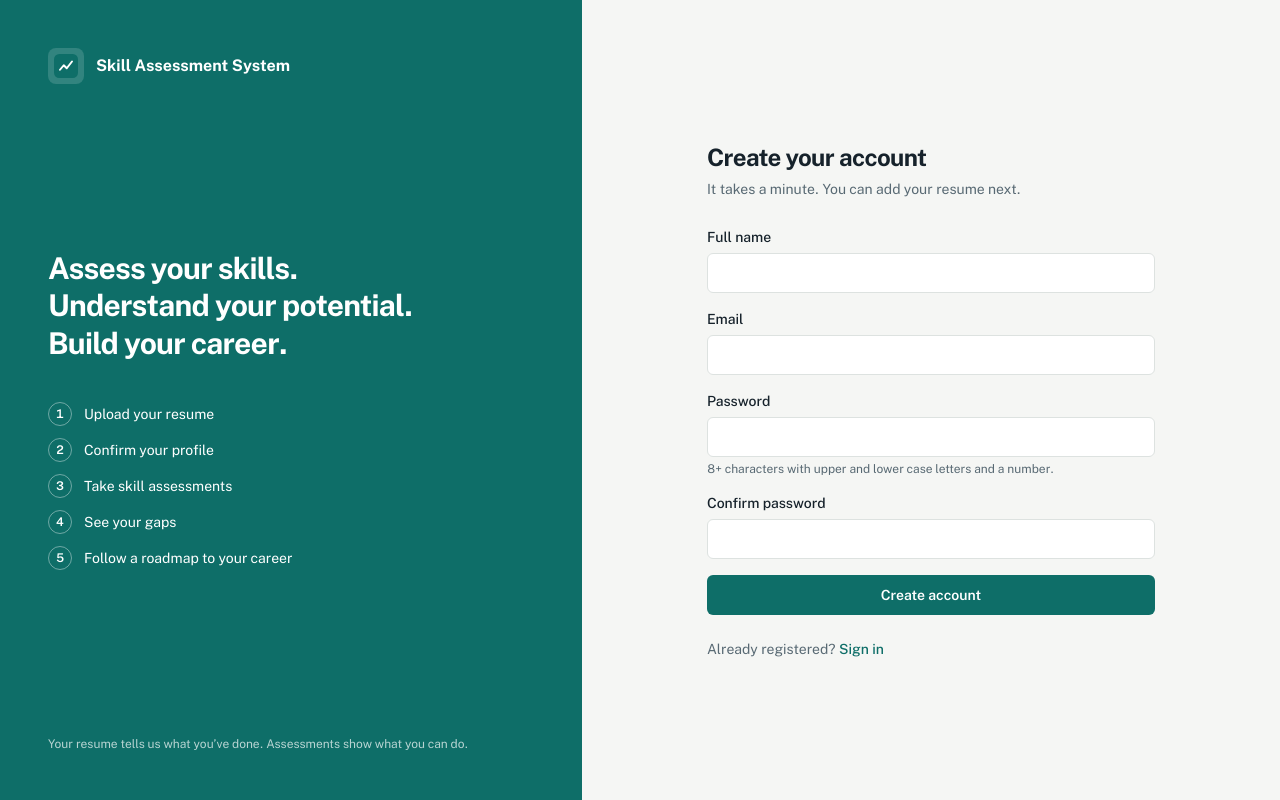
Scenario: auth forms › blocks registration when passwords differ
The width and height of the screenshot is (1280, 800).
Type "Ana Rao" into the field labelled "Full name".
click(931, 273); type("Ana Rao")  # box [707,253,1155,293]
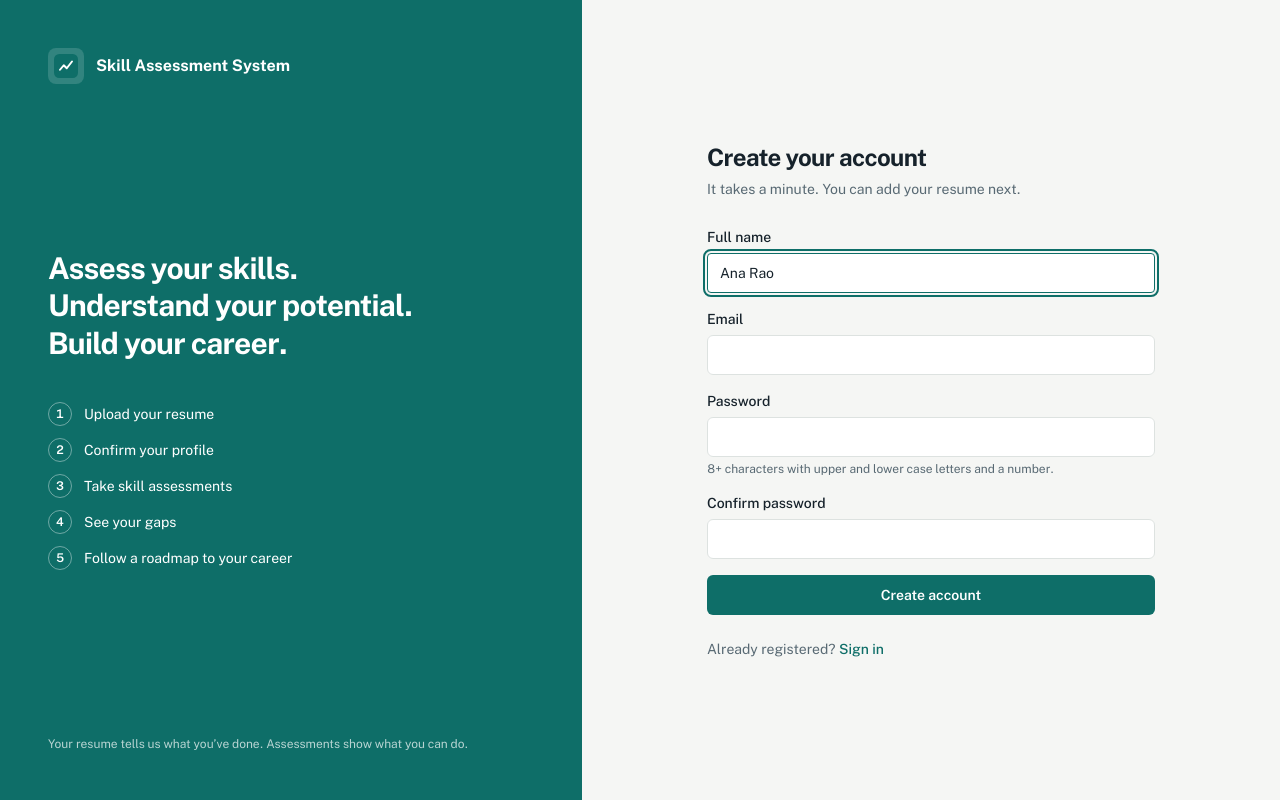
Type "ana@example.com" into the field labelled "Email".
click(931, 355); type("ana@example.com")  # box [707,335,1155,375]
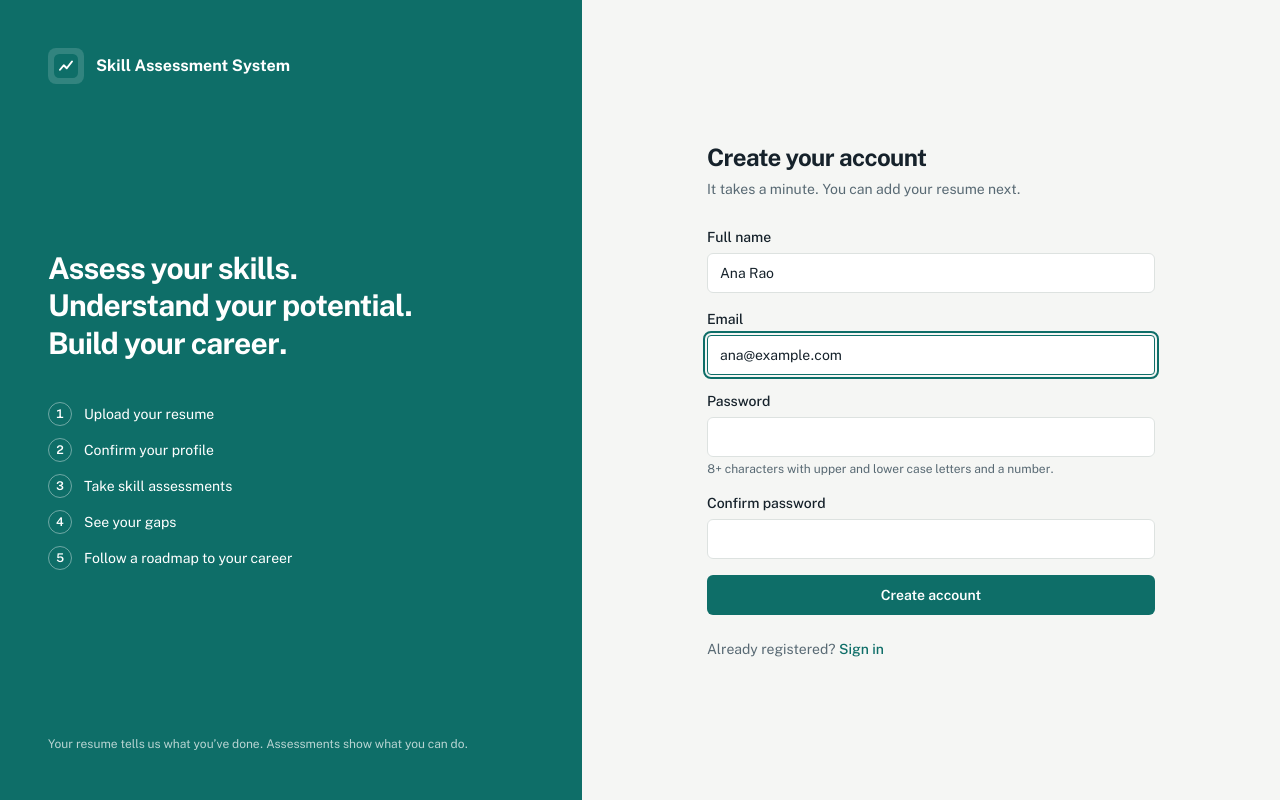
Type "Str0ngPass1" into the password field labelled "Password".
click(931, 437); type("Str0ngPass1")  # box [707,417,1155,457]
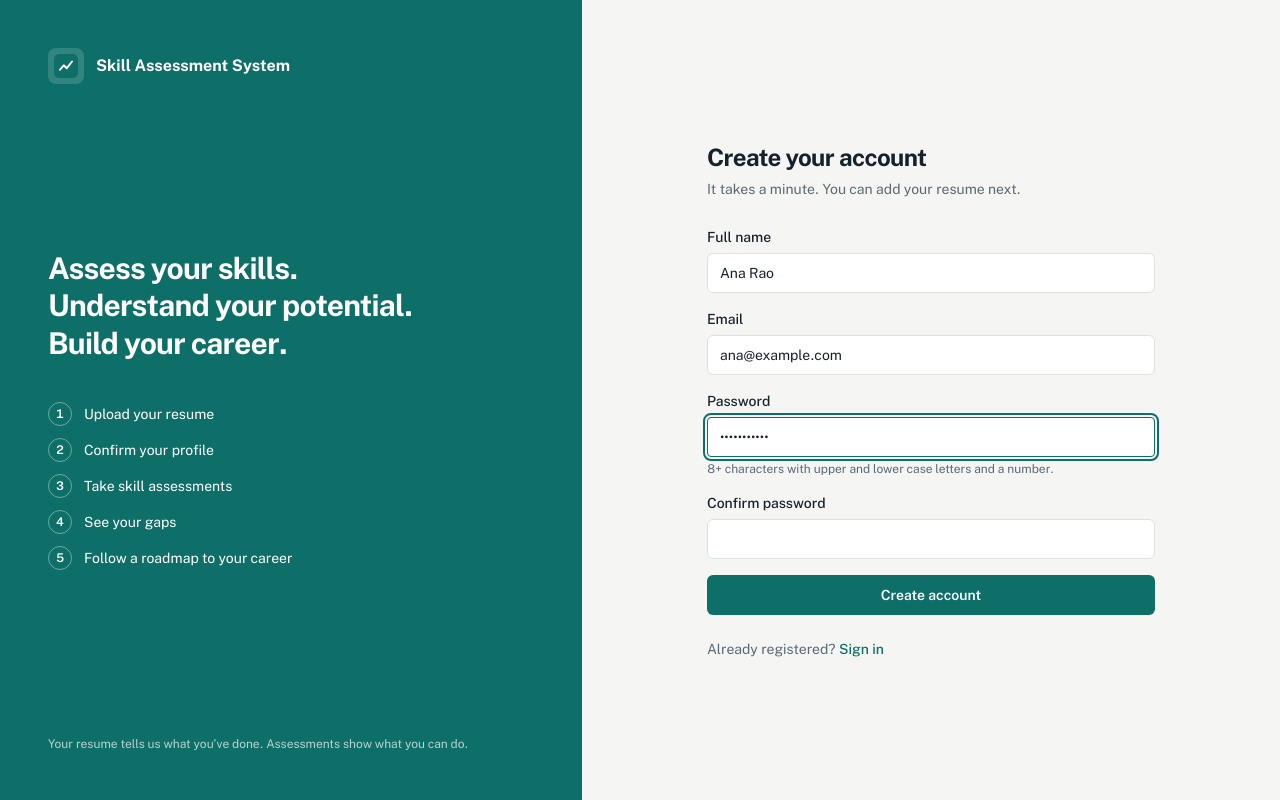
Type "Different1" into the password field labelled "Confirm password".
click(931, 539); type("Different1")  # box [707,519,1155,559]
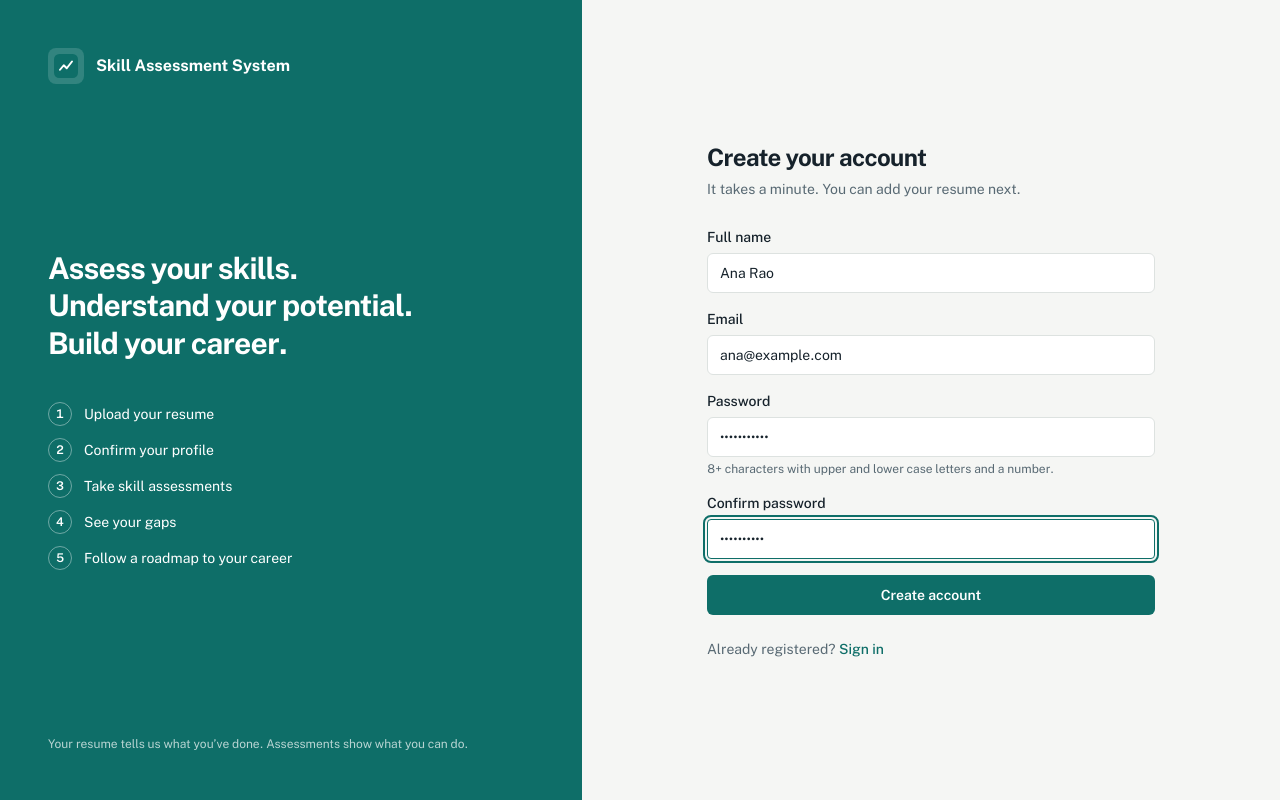
Click the button "Create account".
click(931, 595)  # box [707,575,1155,615]
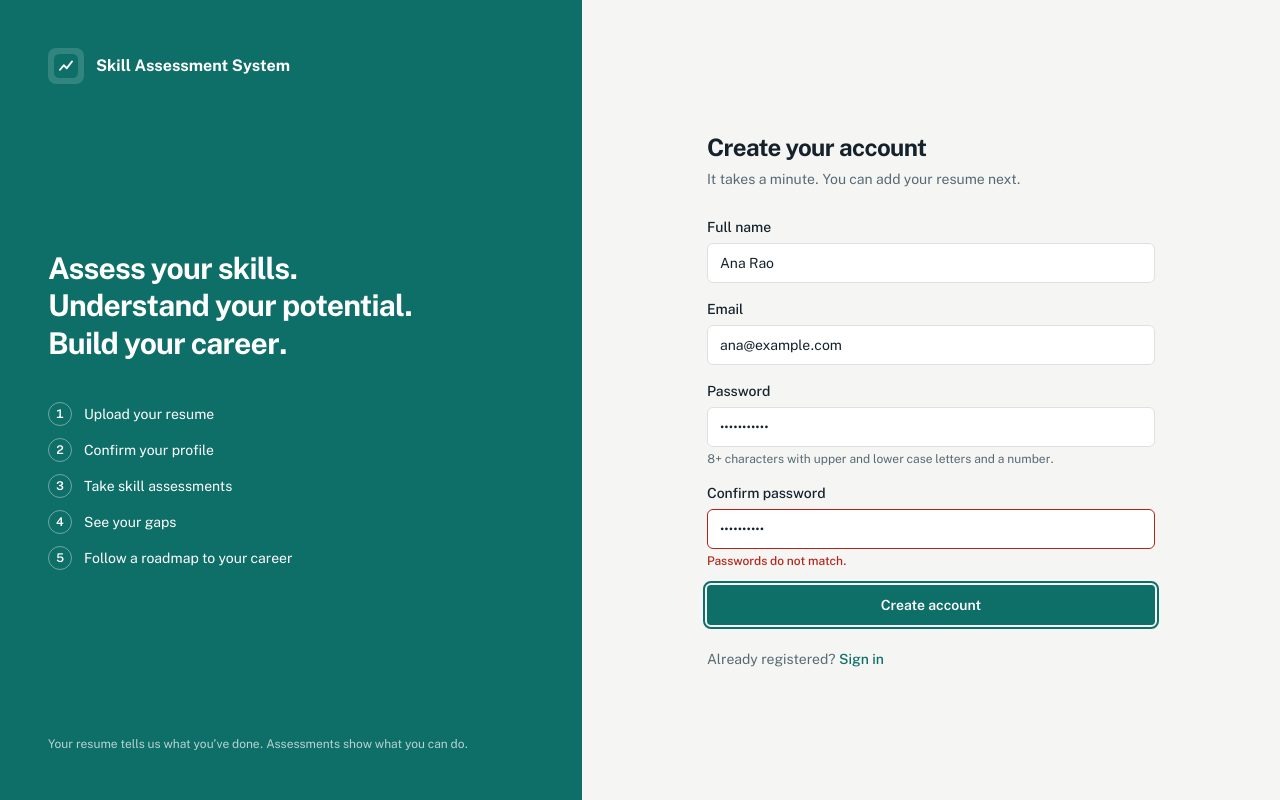
expect the text "Passwords do not match." is shown: met, box [707,554,846,568]
